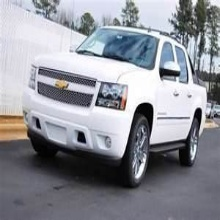no damage: (21, 25, 209, 189)
